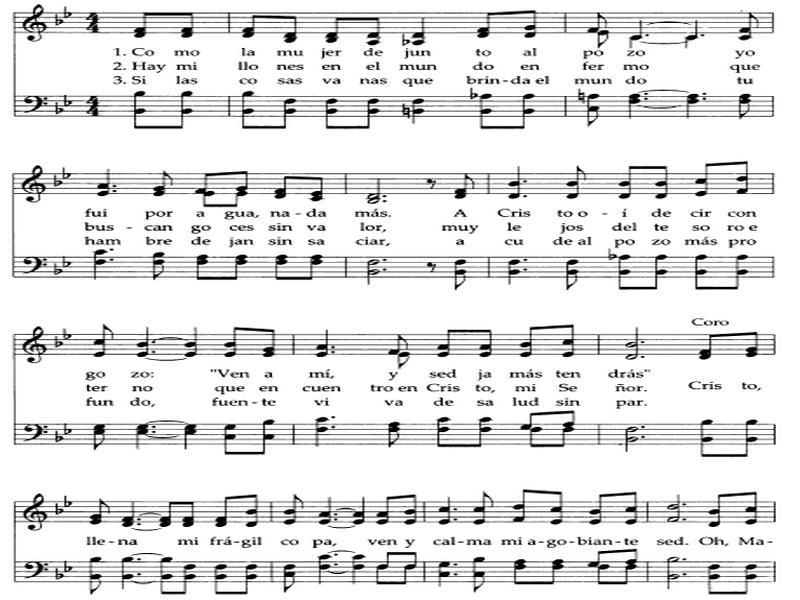B: (660, 550, 678, 595), (357, 254, 380, 284), (619, 328, 638, 359), (621, 424, 638, 456), (363, 172, 379, 204), (668, 490, 682, 526)
Bem: (50, 428, 66, 448), (61, 94, 78, 109), (57, 164, 74, 179), (62, 558, 74, 574), (53, 503, 65, 518), (61, 254, 73, 268), (60, 323, 71, 338), (63, 5, 72, 23), (55, 171, 64, 189), (402, 29, 411, 47), (49, 14, 62, 26), (61, 494, 73, 507), (52, 334, 62, 348), (53, 264, 63, 277), (63, 425, 73, 438), (54, 103, 62, 119), (55, 569, 64, 582)
C: (556, 158, 595, 201), (506, 481, 535, 528), (692, 414, 719, 462), (354, 93, 385, 134), (466, 487, 497, 527), (169, 90, 197, 134), (207, 490, 237, 531), (88, 321, 117, 362), (545, 485, 569, 533), (703, 485, 729, 529), (727, 8, 762, 40), (126, 90, 151, 134), (137, 249, 168, 284), (587, 485, 610, 532), (730, 154, 754, 199), (275, 94, 303, 132), (219, 420, 243, 464), (280, 489, 307, 528), (616, 159, 641, 201), (448, 254, 474, 294), (727, 253, 752, 294), (472, 322, 502, 356), (691, 159, 715, 201), (557, 254, 582, 294), (740, 489, 766, 527), (435, 324, 463, 359), (699, 558, 722, 600), (517, 93, 540, 134), (515, 321, 539, 360), (736, 415, 757, 458), (646, 254, 668, 295), (688, 253, 710, 294), (242, 490, 264, 531), (583, 92, 606, 131), (130, 11, 157, 44), (299, 253, 326, 286), (87, 420, 113, 454), (224, 323, 247, 361), (467, 415, 490, 453), (268, 171, 296, 202), (376, 486, 397, 527), (617, 484, 637, 527), (652, 161, 674, 200), (238, 88, 257, 133), (361, 7, 384, 44), (83, 553, 104, 593), (89, 491, 111, 529), (469, 4, 495, 36), (614, 253, 635, 292), (320, 10, 344, 44), (265, 251, 289, 285), (737, 561, 760, 596), (257, 323, 278, 361), (403, 485, 422, 526), (431, 413, 453, 448), (225, 253, 248, 286), (558, 324, 579, 360), (229, 166, 254, 196), (507, 557, 531, 588), (322, 99, 343, 134), (239, 12, 264, 41), (148, 166, 172, 196), (257, 414, 273, 458), (520, 6, 539, 43), (477, 93, 495, 132), (280, 562, 300, 597), (699, 332, 721, 362), (157, 496, 177, 529), (739, 88, 758, 122), (457, 170, 476, 204), (240, 564, 260, 596), (212, 564, 232, 596), (188, 254, 210, 283), (472, 556, 489, 593), (741, 328, 759, 362), (548, 556, 566, 590), (179, 562, 196, 598), (183, 498, 201, 531), (177, 10, 198, 38), (161, 556, 175, 594), (282, 13, 299, 44), (588, 7, 607, 34), (524, 428, 548, 449), (519, 409, 544, 429), (197, 165, 214, 194), (387, 419, 404, 447), (618, 563, 635, 591), (312, 171, 327, 202), (399, 564, 415, 592), (587, 549, 609, 568), (376, 562, 390, 588), (226, 191, 247, 208), (593, 565, 609, 587), (390, 333, 407, 353), (404, 548, 418, 572), (559, 427, 574, 449), (375, 550, 392, 568), (597, 28, 610, 49), (562, 410, 577, 427), (399, 349, 411, 370), (203, 189, 215, 209), (627, 548, 638, 564)
CF: (13, 84, 48, 126), (21, 245, 50, 280), (23, 414, 49, 450), (22, 551, 50, 582)
CS: (21, 483, 50, 537), (23, 316, 47, 374), (20, 1, 46, 50), (22, 162, 45, 206)
N: (175, 415, 205, 459), (91, 158, 113, 202), (180, 322, 204, 360), (618, 91, 642, 124), (133, 319, 152, 359), (434, 491, 455, 527), (505, 160, 522, 204), (87, 249, 107, 286), (128, 418, 148, 454), (116, 553, 133, 594), (344, 553, 366, 584), (312, 326, 330, 362), (310, 414, 328, 450), (413, 15, 432, 48), (350, 496, 371, 525), (410, 94, 427, 127), (432, 556, 448, 588), (317, 494, 332, 528), (313, 553, 328, 584), (121, 500, 136, 530), (627, 17, 643, 41), (682, 17, 697, 39), (689, 89, 699, 119), (679, 35, 697, 49), (625, 31, 640, 47)
P: (640, 421, 649, 432), (680, 499, 689, 510), (326, 425, 337, 434), (638, 337, 647, 346), (680, 514, 689, 522), (638, 432, 648, 439), (328, 414, 337, 421), (382, 257, 388, 264), (113, 191, 120, 197), (111, 183, 118, 187), (639, 354, 645, 358), (380, 268, 387, 271)
SN: (418, 174, 438, 193), (421, 258, 441, 277)
SOS: (399, 104, 408, 120)
